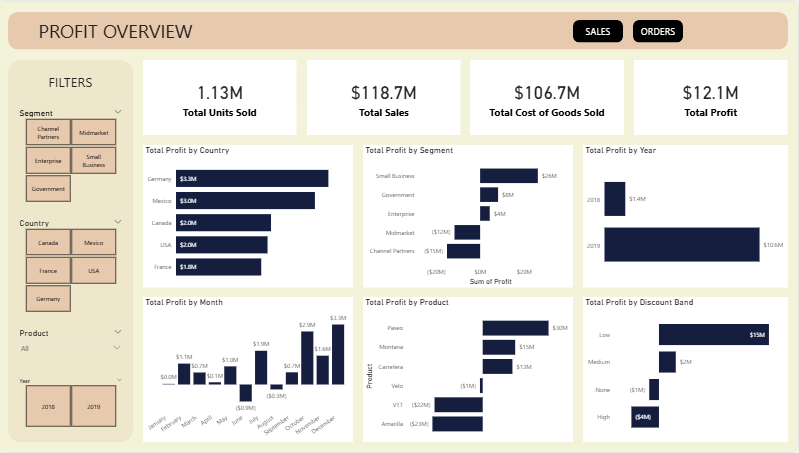

The dashboard page shown, as its layout file describes it:
{"tool":"powerbi","page":{"name":"Profit","canvas":[1600,900],"ordinal":1},"visuals":[{"type":"shape","box":[20,20,1560,75],"z":0,"group":"g1"},{"type":"shape","box":[20,115,250,765],"z":0},{"type":"card","fields":{"Values":["Sum(Table1_1.Profit)"]},"box":[1271,115,307,150],"z":1000},{"type":"card","fields":{"Values":["Sum(Table1_1.COGS)"]},"box":[944,115,308,150],"z":2000},{"type":"card","fields":{"Values":["Sum(Table1_1. Sales)"]},"box":[617,115,307,150],"z":3000},{"type":"card","fields":{"Values":["Sum(Table1_1.Units Sold)"]},"box":[290,115,307,150],"z":4000},{"type":"barChart","title":"Total Profit by Country","fields":{"Category":["Table1_1.Country"],"Y":["Sum(Table1_1.Profit)"]},"box":[290,285,420,285],"z":5000},{"type":"barChart","title":"Total Profit by Segment","fields":{"Category":["Table1_1.Segment"],"Y":["Sum(Table1_1.Profit)"]},"box":[730,285,420,285],"z":6000},{"type":"slicer","fields":{"Values":["Table1_1.Segment"]},"box":[30,205,230,200],"z":7000},{"type":"slicer","fields":{"Values":["Table1_1.Country"]},"box":[30,425,230,200],"z":8000},{"type":"slicer","fields":{"Values":["Table1_1.Product"]},"box":[30,645,230,80],"z":9000},{"type":"barChart","title":"Total Profit by Year","fields":{"Category":["Table1_1.Date.Variation.Date Hierarchy.Year"],"Y":["Sum(Table1_1.Profit)"]},"box":[1170,285,410,285],"z":10000},{"type":"columnChart","title":"Total Profit by Month","fields":{"Category":["Table1_1.Date.Variation.Date Hierarchy.Year","Table1_1.Date.Variation.Date Hierarchy.Month"],"Y":["Sum(Table1_1.Profit)"]},"box":[290,590,420,290],"z":11000},{"type":"barChart","title":"Total Profit by Product","fields":{"Category":["Table1_1.Product"],"Y":["Sum(Table1_1.Profit)"]},"box":[730,590,420,290],"z":12000},{"type":"slicer","fields":{"Values":["Table1_1.Date.Variation.Date Hierarchy.Year"]},"box":[30,745,230,110],"z":13000},{"type":"group","id":"g1","title":"Group 1","box":[20,20,1560,75],"z":14000},{"type":"barChart","title":"Total Profit by Discount Band","fields":{"Y":["Sum(Table1_1.Profit)"],"Category":["Table1_1.Discount Band"]},"box":[1170,590,410,290],"z":15000},{"type":"textbox","box":[75,25,350,65],"z":15002,"group":"g1"},{"type":"actionButton","box":[1150,35,100,45],"z":16000},{"type":"actionButton","box":[1270,35,100,45],"z":17000},{"type":"textbox","box":[20,135,250,50],"z":18000}]}

Visuals, with their boxes in screenshot pixels (x1, y1, x2, y2), scaled from the page's 1600x900 canvas onto the 799x453 screenshot:
shape: x1=10 y1=10 x2=789 y2=48
shape: x1=10 y1=58 x2=135 y2=443
card - Sum(Table1_1.Profit): x1=635 y1=58 x2=788 y2=133
card - Sum(Table1_1.COGS): x1=471 y1=58 x2=625 y2=133
card - Sum(Table1_1. Sales): x1=308 y1=58 x2=461 y2=133
card - Sum(Table1_1.Units Sold): x1=145 y1=58 x2=298 y2=133
"Total Profit by Country" barChart: x1=145 y1=143 x2=355 y2=287
"Total Profit by Segment" barChart: x1=365 y1=143 x2=574 y2=287
slicer - Table1_1.Segment: x1=15 y1=103 x2=130 y2=204
slicer - Table1_1.Country: x1=15 y1=214 x2=130 y2=315
slicer - Table1_1.Product: x1=15 y1=325 x2=130 y2=365
"Total Profit by Year" barChart: x1=584 y1=143 x2=789 y2=287
"Total Profit by Month" columnChart: x1=145 y1=297 x2=355 y2=443
"Total Profit by Product" barChart: x1=365 y1=297 x2=574 y2=443
slicer - Table1_1.Date.Variation.Date Hierarchy.Year: x1=15 y1=375 x2=130 y2=430
"Group 1" group: x1=10 y1=10 x2=789 y2=48
"Total Profit by Discount Band" barChart: x1=584 y1=297 x2=789 y2=443
textbox: x1=37 y1=13 x2=212 y2=45
actionButton: x1=574 y1=18 x2=624 y2=40
actionButton: x1=634 y1=18 x2=684 y2=40
textbox: x1=10 y1=68 x2=135 y2=93
